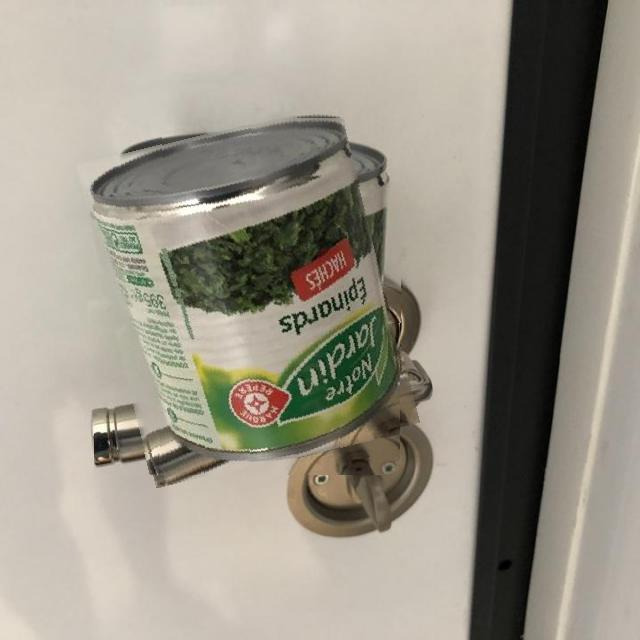recyclable: (95, 113, 402, 475)
